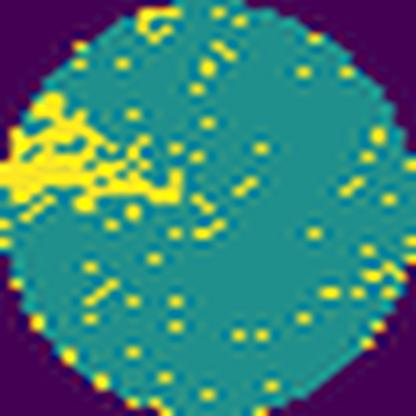Loc: (0, 92, 189, 213)
